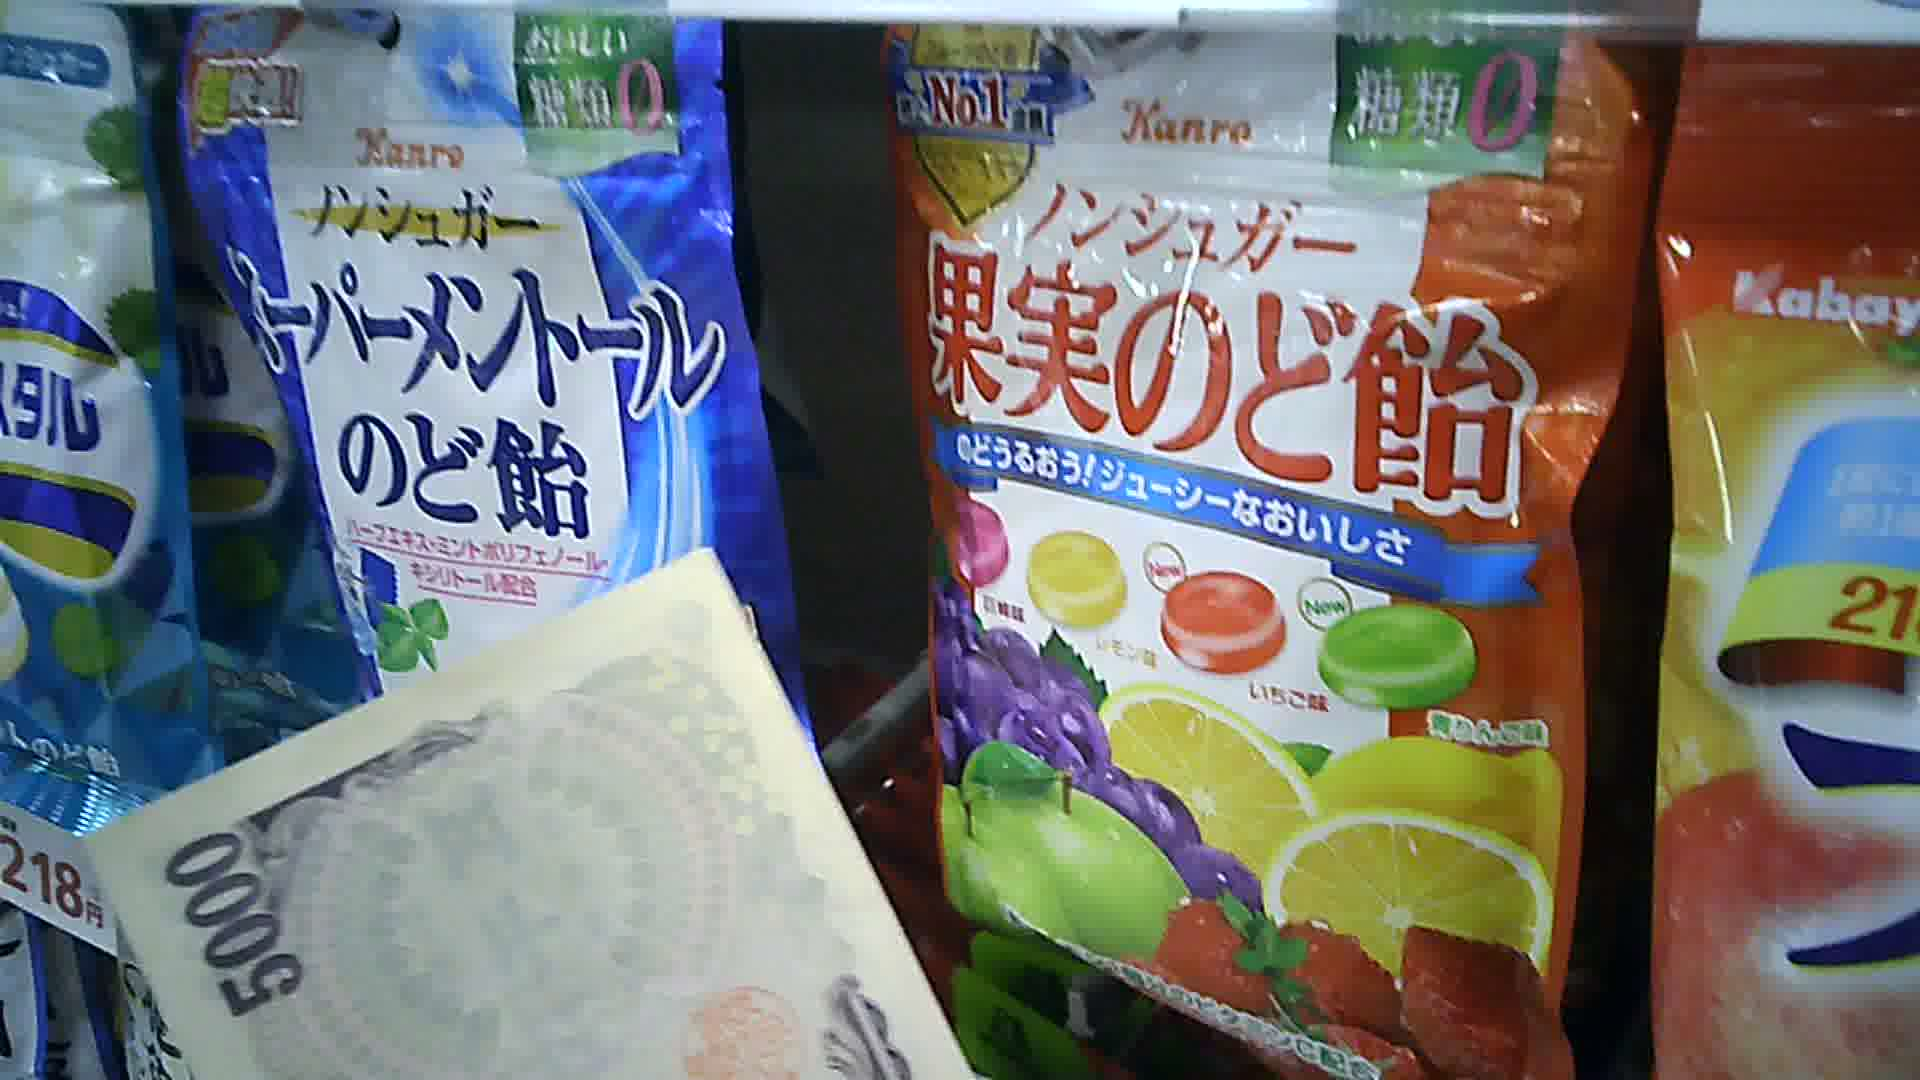5,000 Yen: (73, 546, 971, 1064)
